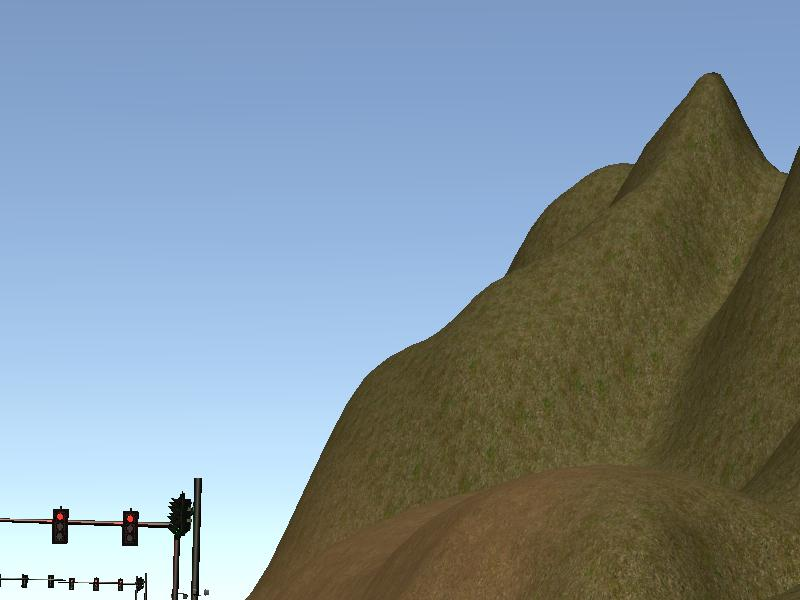Red: (121, 510, 138, 546), (52, 506, 68, 542)
